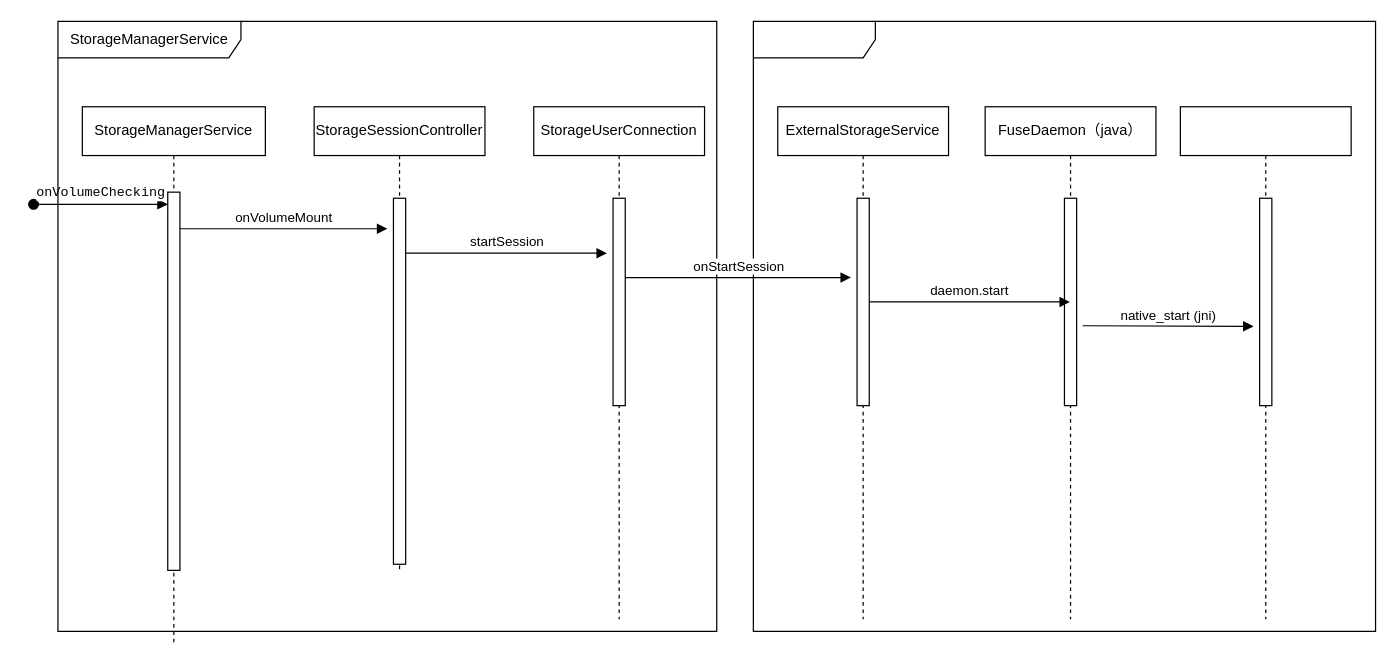
Some shapes in this 1397 by 665 pixel diagram are drawn without their labels. Here are the shapes that lost their labels. From the top down, the box of each, then its label:
(752, 20, 1376, 631): MediaProvider
(1179, 106, 1351, 619): FuseDaemon（cpp）
